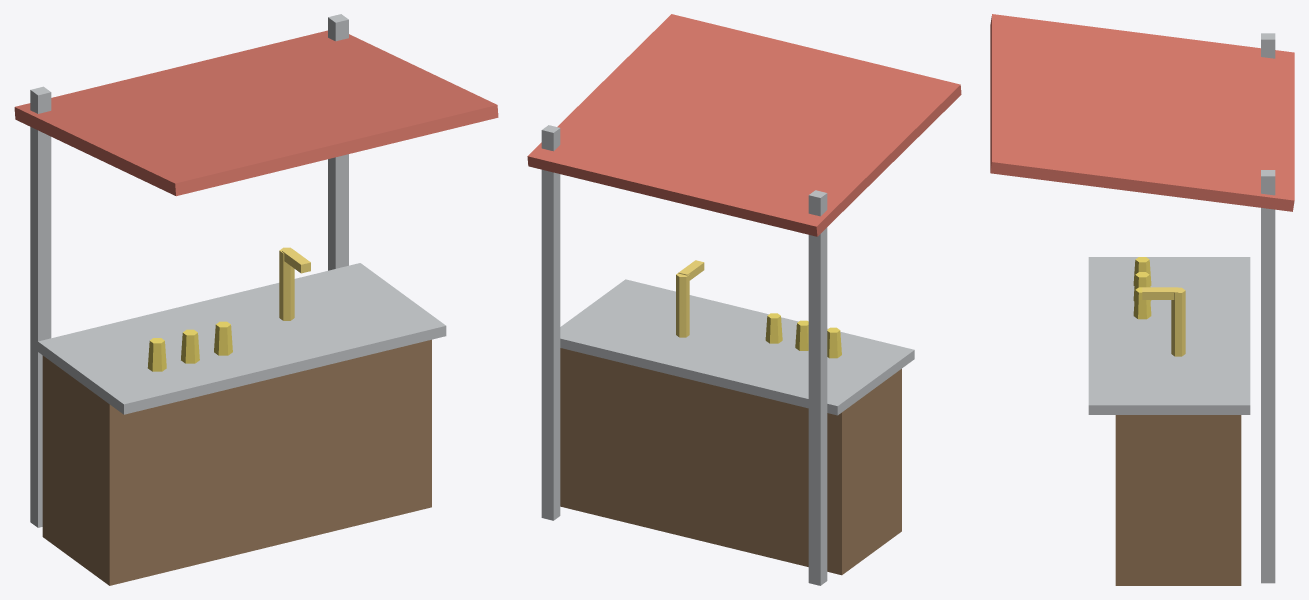
The model's file is VJ_Barra.fbx.
The picture shows the model from 3 angles, left to right: view 1: azimuth 30°, elevation 25°; view 2: azimuth 150°, elevation 25°; view 3: azimuth 270°, elevation 25°; orthographic projection. The views are drawn at different scales.
Parts seen in each view (by area): view 1: VJ_Barra; view 2: VJ_Barra; view 3: VJ_Barra.
Boxes of the visible parts, x1,y1,x2,y2 form: VJ_Barra: (14, 14, 498, 585); VJ_Barra: (527, 14, 961, 585); VJ_Barra: (990, 14, 1294, 585).
Size of the model in its own units: 1.95 by 2.6 by 1.69.
